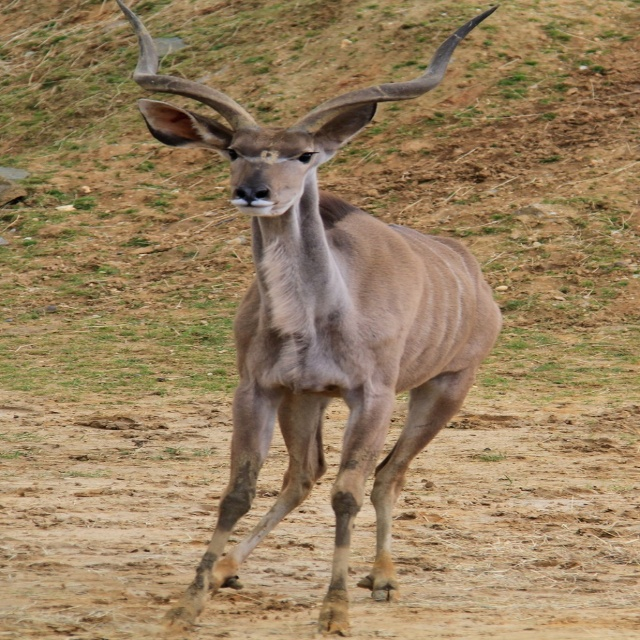Deer: (112, 0, 503, 637)
